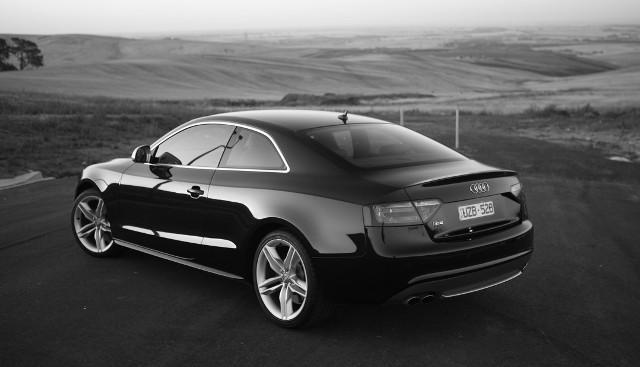car: (51, 92, 559, 353)
